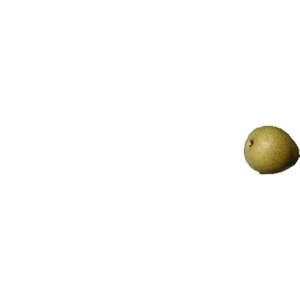pera: (244, 126, 300, 175)
